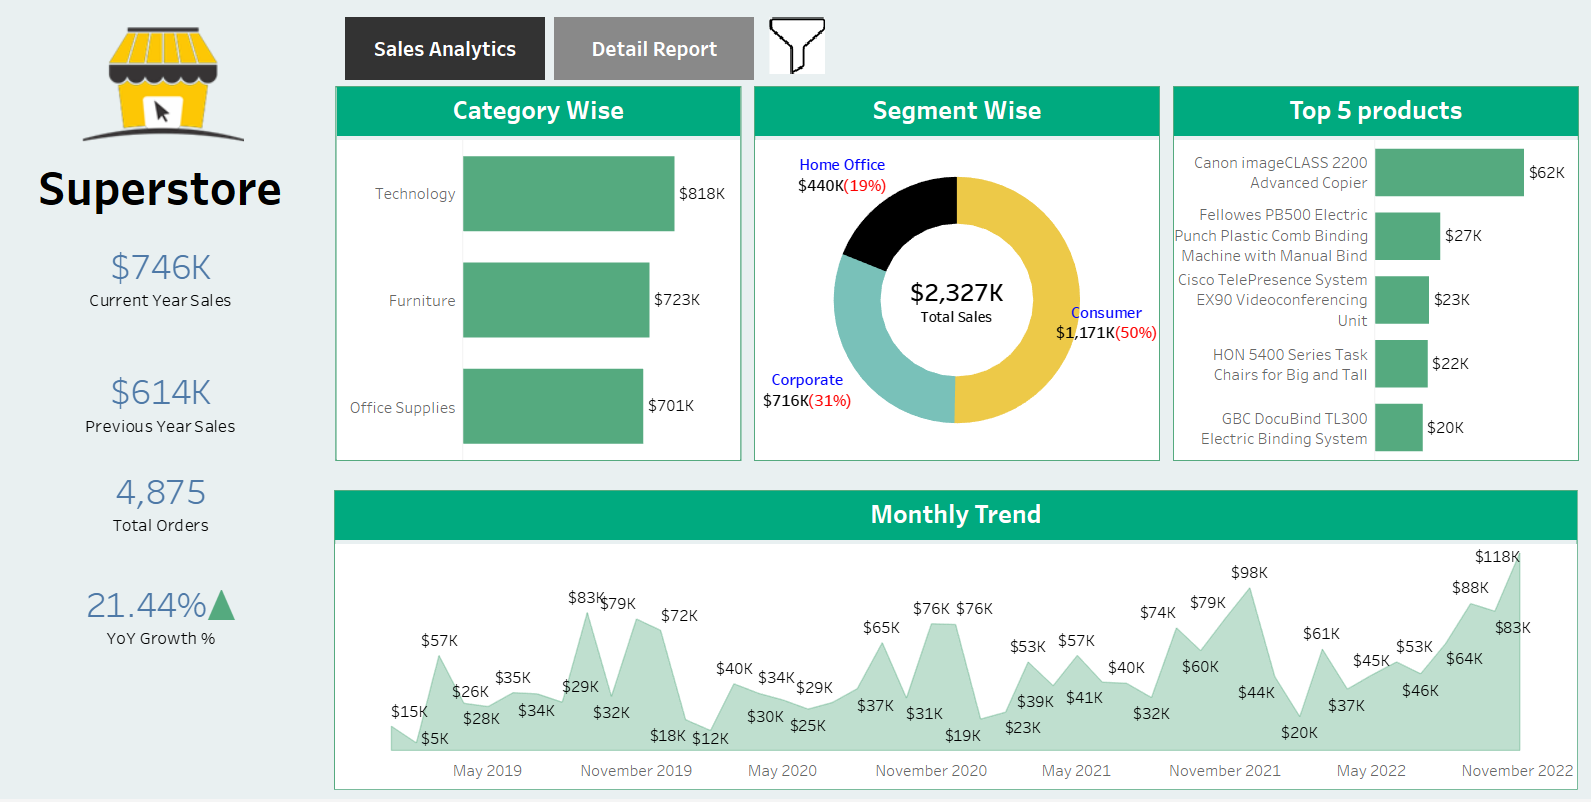

What the dashboard file says about the page in this screenshot:
{"tool":"tableau","page":{"name":"Dashboard 1","canvas":[1280,640],"ordinal":0},"visuals":[{"type":"dashboard-object","box":[283,15,160,50]},{"type":"dashboard-object","box":[450,15,160,50]},{"type":"dashboard-object","box":[620,15,50,45]},{"type":"filter","title":"Category Wise","param":"[federated.1778arw0wl50w816u0n7v0ulj3g8].[none:Category:nk]","box":[700,15,150,50]},{"type":"dashboard-object","box":[769,15,24,24]},{"type":"filter","title":"Monthly Trend","param":"[federated.1778arw0wl50w816u0n7v0ulj3g8].[yr:Calculation_316096451685707776:ok]","box":[850,15,150,50]},{"type":"filter","title":"Region","param":"[federated.1778arw0wl50w816u0n7v0ulj3g8].[none:Region:nk]","box":[1000,15,150,50]},{"type":"image","param":"Image/Store image.png","box":[55,20,165,95]},{"type":"worksheet","title":"Category Wise","mark":"Bar","rows":["Category"],"cols":["Sales"],"box":[275,70,325,300]},{"type":"worksheet","title":"Segment Wise","mark":"Pie","rows":["Calculation_115686268003401728","Calculation_115686268003401728"],"box":[610,70,325,300]},{"type":"worksheet","title":"Top 5 products","mark":"Automatic","rows":["Product Name"],"cols":["Sales"],"box":[945,70,325,300]},{"type":"text","box":[0,120,270,60]},{"type":"worksheet","title":"Region","mark":"Automatic","rows":["Region"],"box":[715,179,100,62]},{"type":"worksheet","title":"Current year sales","mark":"Automatic","box":[0,195,270,75]},{"type":"worksheet","title":"Previous year sales ","mark":"Automatic","box":[0,285,270,75]},{"type":"worksheet","title":"Total orders","mark":"Automatic","box":[0,375,270,75]},{"type":"worksheet","title":"Monthly Trend","mark":"Area","rows":["Sales"],"cols":["Order Date"],"box":[274,393,995,240]},{"type":"worksheet","title":"YoY%","mark":"Automatic","cols":["Order Date"],"box":[0,465,270,75]}]}

Visuals, with their boxes in screenshot pixels (x1, y1, x2, y2), scaled from the page's 1280x640 canvas onto the 1591x802 screenshot:
dashboard-object: (left=352, top=19, right=551, bottom=81)
dashboard-object: (left=559, top=19, right=758, bottom=81)
dashboard-object: (left=771, top=19, right=833, bottom=75)
"Category Wise" filter: (left=870, top=19, right=1057, bottom=81)
dashboard-object: (left=956, top=19, right=986, bottom=49)
"Monthly Trend" filter: (left=1057, top=19, right=1243, bottom=81)
"Region" filter: (left=1243, top=19, right=1429, bottom=81)
image: (left=68, top=25, right=273, bottom=144)
"Category Wise" worksheet (Bar marks): (left=342, top=88, right=746, bottom=464)
"Segment Wise" worksheet (Pie marks): (left=758, top=88, right=1162, bottom=464)
"Top 5 products" worksheet: (left=1175, top=88, right=1579, bottom=464)
text: (left=0, top=150, right=336, bottom=226)
"Region" worksheet: (left=889, top=224, right=1013, bottom=302)
"Current year sales" worksheet: (left=0, top=244, right=336, bottom=338)
"Previous year sales " worksheet: (left=0, top=357, right=336, bottom=451)
"Total orders" worksheet: (left=0, top=470, right=336, bottom=564)
"Monthly Trend" worksheet (Area marks): (left=341, top=492, right=1577, bottom=793)
"YoY%" worksheet: (left=0, top=583, right=336, bottom=677)
